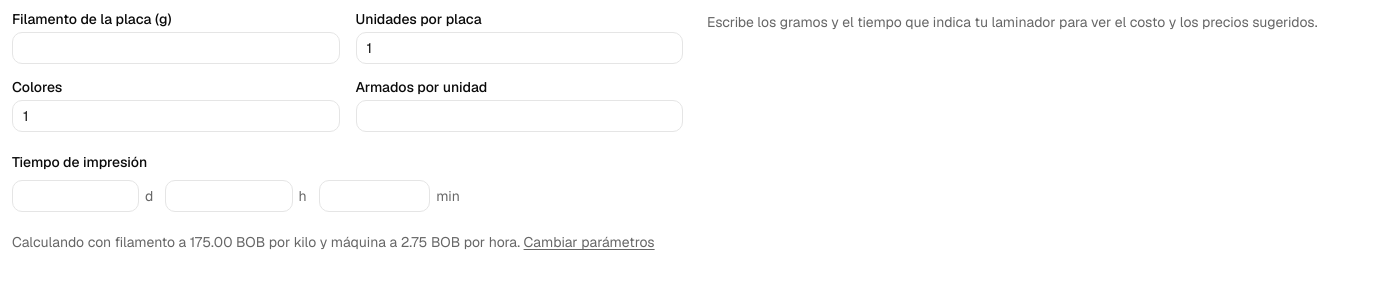
Scenario: PrintCostPage › once horas o seiscientos sesenta minutos son lo mismo
This screenshot has width=1390, height=297.
In the field named "Horas": [229, 196] box [165,180,292,212], type "11"
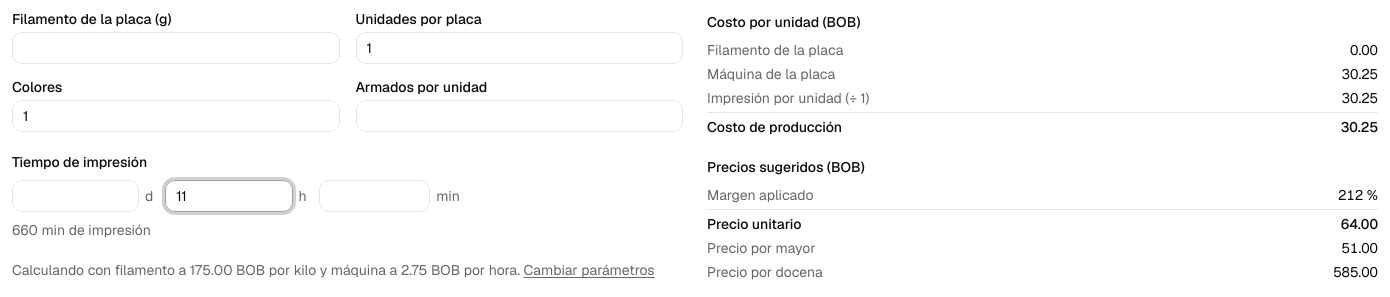
Result: the text "30.25" in the row of "Máquina de la placa" is shown at [1342,65,1378,83]
